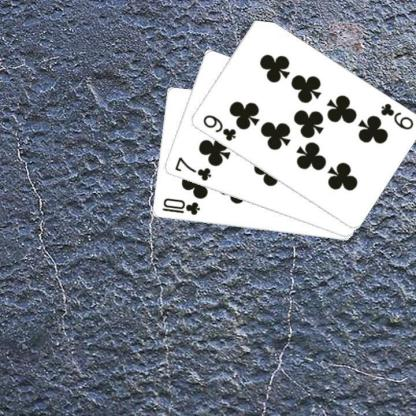10C: (160, 196, 201, 217)
7C: (172, 154, 212, 183)
9C: (200, 112, 237, 143), (377, 101, 415, 131)
